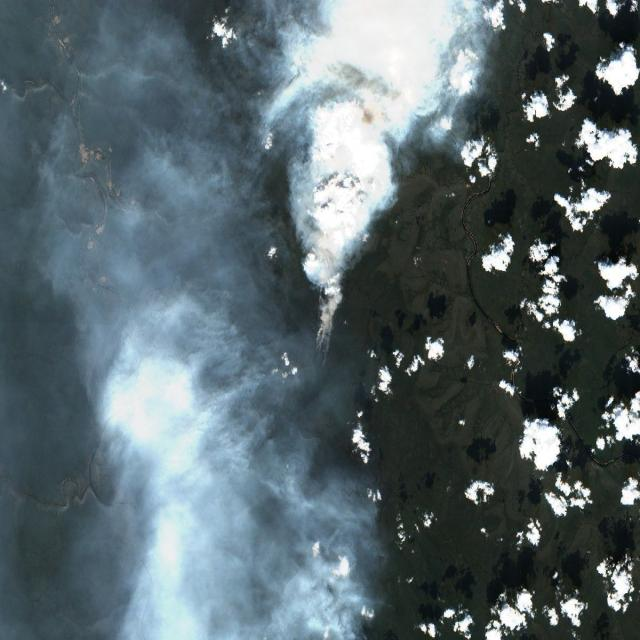fire: (306, 188, 351, 360)
